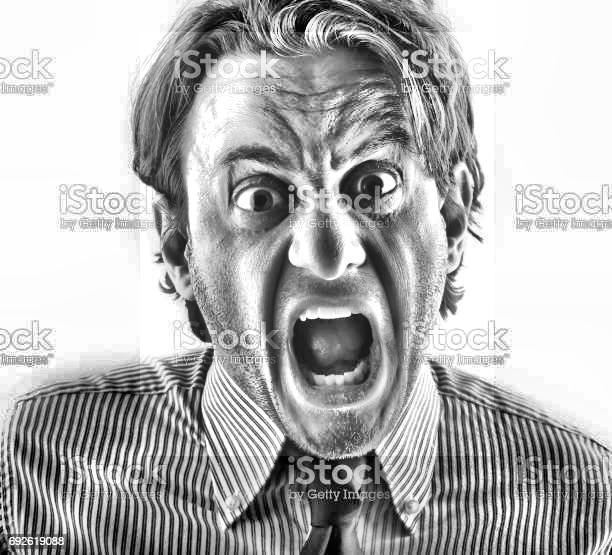angry: (140, 32, 494, 456)
